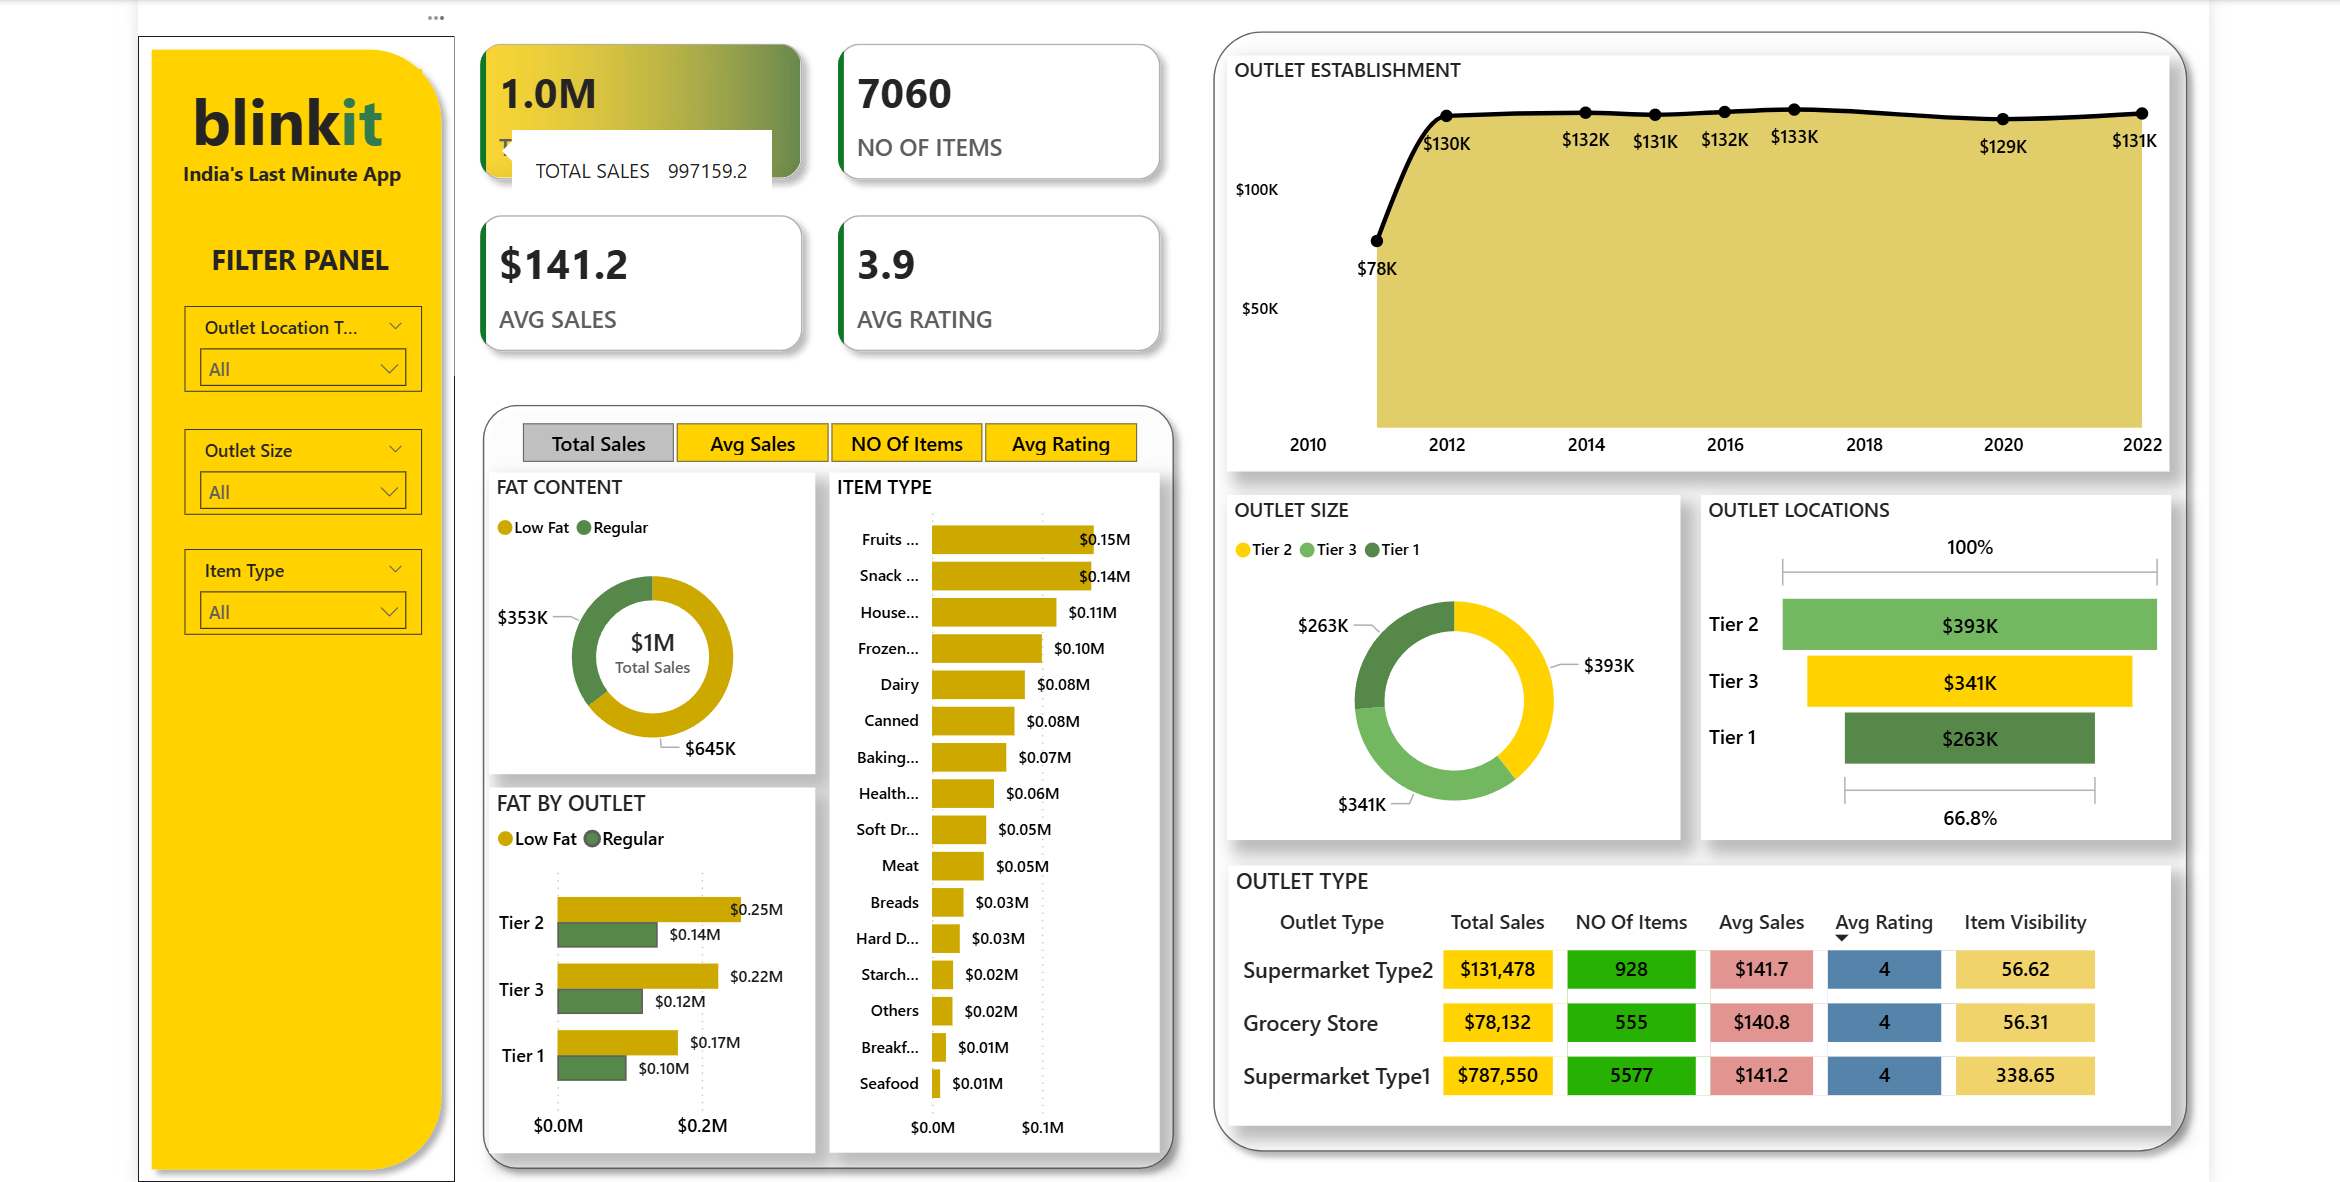

This screenshot's page, from the dashboard's own definition file:
{"tool":"powerbi","page":{"name":"Page 1","canvas":[1400,800],"ordinal":0},"visuals":[{"type":"shape","box":[0,24.1,214.2,775.6],"z":0},{"type":"textbox","box":[31.7,46.9,161,74.8],"z":1000},{"type":"textbox","box":[25.3,102.7,174.9,55.8],"z":2000},{"type":"cardVisual","fields":{"Data":["Table1.Total Sales","Table1.NO Of Items","Table1.Avg Sales","Table1.Avg Rating"]},"box":[214.2,12.7,495.5,242.1],"z":3000},{"type":"shape","box":[224.3,264.9,485.4,534.8],"z":4000},{"type":"donutChart","title":"FAT CONTENT","fields":{"Y":["Table1.Total Sales"],"Category":["Table1.Item Fat Content"]},"box":[237,319.4,220.5,204],"z":5000},{"type":"slicer","fields":{"Values":["Metrics.Metrics"]},"box":[234.5,278.8,465.1,40.6],"z":6000},{"type":"cardVisual","fields":{"Data":["Table1.Total Sales"]},"box":[282.6,400.5,130.5,79.8],"z":7000},{"type":"clusteredBarChart","title":"FAT BY OUTLET","fields":{"Y":["Table1.Total Sales"],"Category":["Table1.Outlet Location Type"],"Series":["Table1.Item Fat Content"]},"box":[237,532.3,220.5,247.1],"z":8000},{"type":"barChart","title":"ITEM TYPE","fields":{"Y":["Table1.Total Sales"],"Category":["Table1.Item Type"]},"box":[467.7,319.4,223.1,460.1],"z":9000},{"type":"shape","box":[718.6,12.7,676.8,775.6],"z":10000},{"type":"lineChart","title":"OUTLET ESTABLISHMENT","fields":{"Y":["Table1.Total Sales"],"Category":["Table1.Outlet Establishment Year"]},"box":[736.3,38,637.5,281.4],"z":11000},{"type":"donutChart","title":"OUTLET SIZE","fields":{"Y":["Table1.Total Sales"],"Category":["Table1.Outlet Location Type","Table1.Item Fat Content"]},"box":[736.3,334.6,306.7,233.2],"z":12000},{"type":"funnel","title":"OUTLET LOCATIONS","fields":{"Y":["Table1.Total Sales"],"Category":["Table1.Outlet Location Type"]},"box":[1057,334.6,318.1,233.2],"z":13000},{"type":"pivotTable","title":"OUTLET TYPE","fields":{"Rows":["Table1.Outlet Type"],"Values":["Table1.Total Sales","Table1.NO Of Items","Table1.Avg Sales","Table1.Avg Rating","Sum(Table1.Item Visibility)"]},"box":[737.6,585.5,637.5,176.2],"z":14000},{"type":"slicer","fields":{"Values":["Table1.Outlet Location Type"]},"box":[31.7,206.6,161,58.3],"z":15000},{"type":"slicer","fields":{"Values":["Table1.Outlet Size"]},"box":[31.7,290.2,161,58.3],"z":16000},{"type":"slicer","fields":{"Values":["Table1.Item Type"]},"box":[31.7,371.3,161,58.3],"z":17000},{"type":"textbox","box":[44.4,157.2,136.9,44.4],"z":18000}]}

Visuals, with their boxes on the page's 1400x800 design canvas (x1, y1, x2, y2). These are canvas units, not pixel positions in the 2340x1182 screenshot, which may show the page scaled, cropped or inside an application window:
shape: 0 24 214 800
textbox: 32 47 193 122
textbox: 25 103 200 158
cardVisual - Table1.Total Sales x Table1.NO Of Items: 214 13 710 255
shape: 224 265 710 800
"FAT CONTENT" donutChart: 237 319 458 523
slicer - Metrics.Metrics: 234 279 700 319
cardVisual - Table1.Total Sales: 283 400 413 480
"FAT BY OUTLET" clusteredBarChart: 237 532 458 779
"ITEM TYPE" barChart: 468 319 691 780
shape: 719 13 1395 788
"OUTLET ESTABLISHMENT" lineChart: 736 38 1374 319
"OUTLET SIZE" donutChart: 736 335 1043 568
"OUTLET LOCATIONS" funnel: 1057 335 1375 568
"OUTLET TYPE" pivotTable: 738 586 1375 762
slicer - Table1.Outlet Location Type: 32 207 193 265
slicer - Table1.Outlet Size: 32 290 193 348
slicer - Table1.Item Type: 32 371 193 430
textbox: 44 157 181 202
